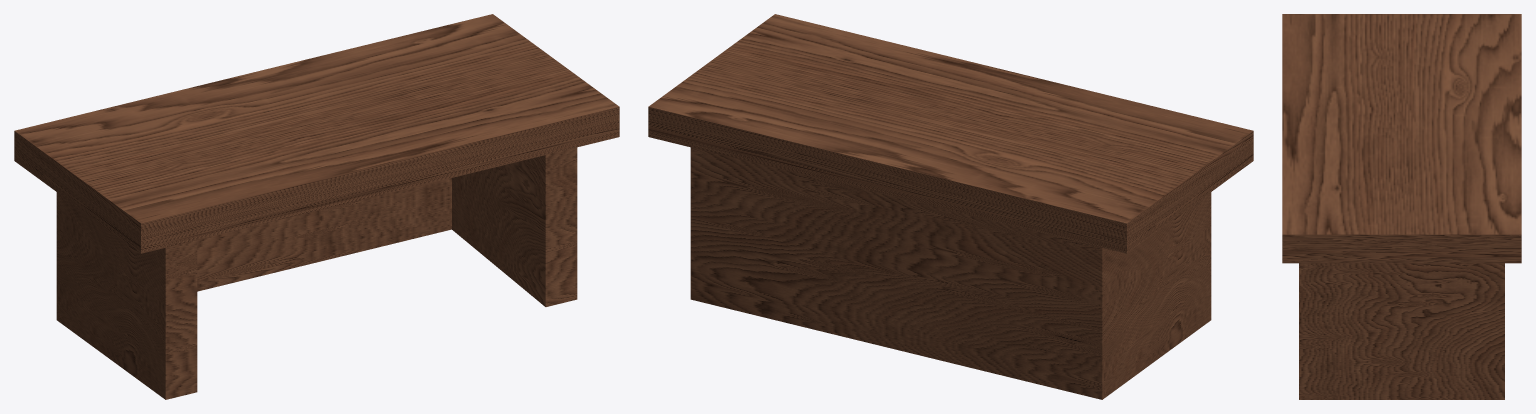
Rendered from SM_BossTable.glb.
The picture shows the model from 3 angles, left to right: view 1: azimuth 30°, elevation 25°; view 2: azimuth 150°, elevation 25°; view 3: azimuth 270°, elevation 25°; orthographic projection. The views are drawn at different scales.
Parts seen in each view (by area): view 1: BossTable; view 2: BossTable; view 3: BossTable.
Part boxes in pixels (left/top/right/bottom): BossTable: left=14, top=14, right=619, bottom=399; BossTable: left=648, top=14, right=1253, bottom=399; BossTable: left=1282, top=14, right=1521, bottom=399.
Bounding box in the file's own units: 0.1739 × 0.0664 × 0.0798.
Materials: 1 (1 with a texture image).
